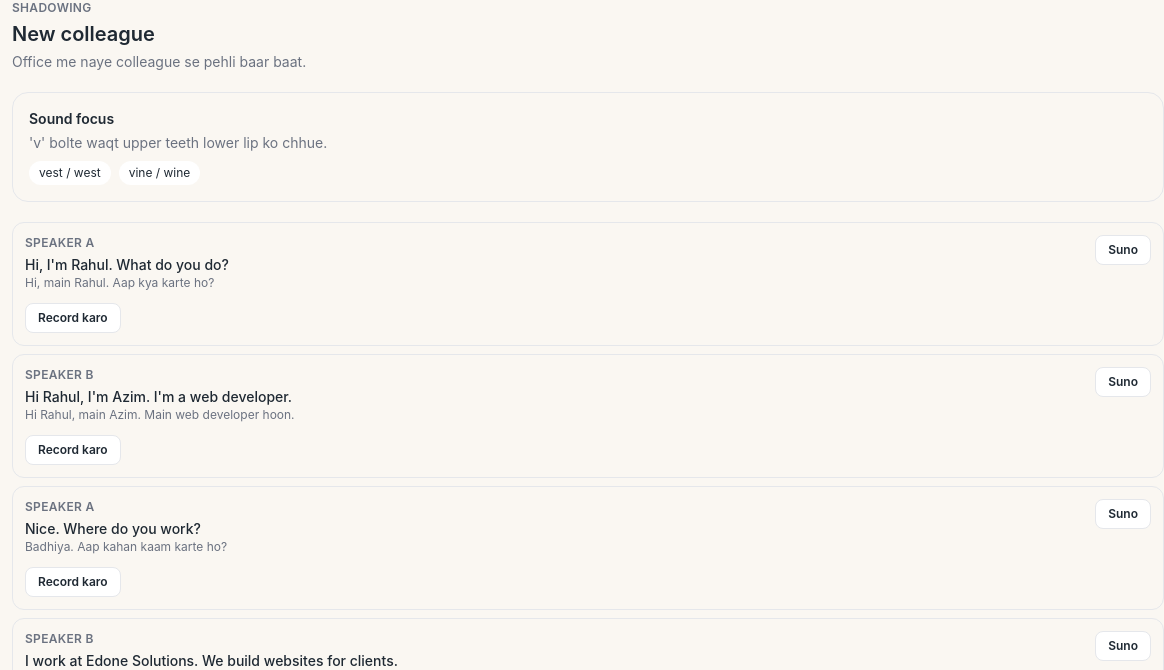
Scenario: records, stops, and shows playback
The width and height of the screenshot is (1164, 670).
Click the button "Record karo" below "Hi, main Rahul. Aap kya karte ho?": (73, 318) [25, 303, 121, 333]
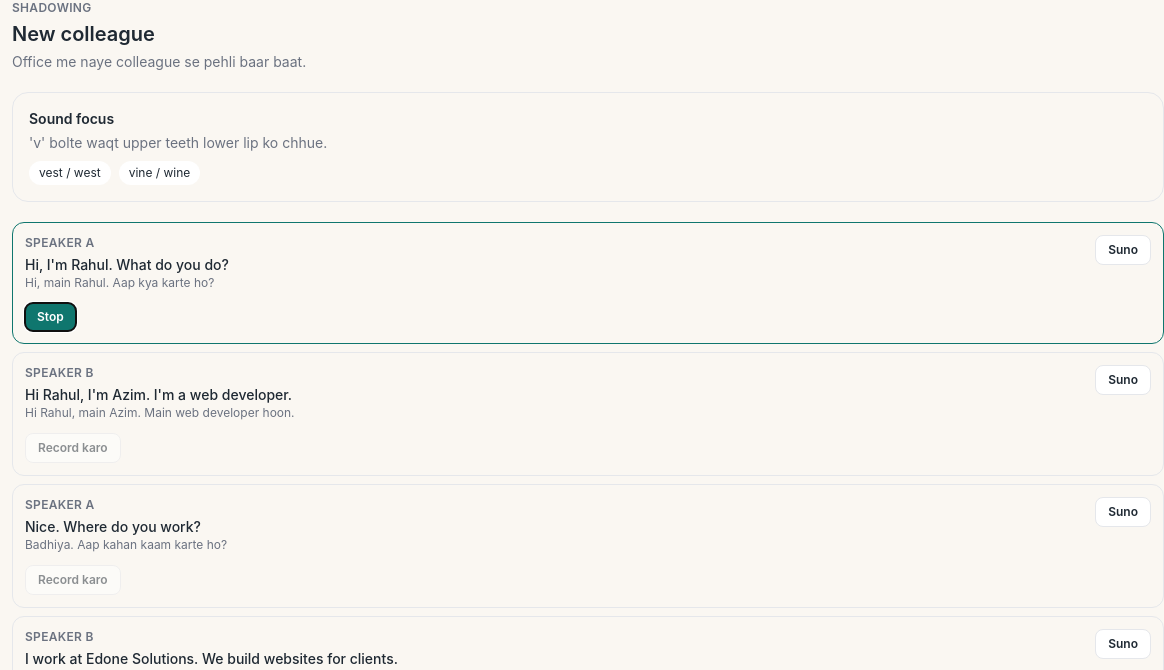
Click the button "Stop": (50, 317) [25, 303, 76, 331]
(page scrolled)
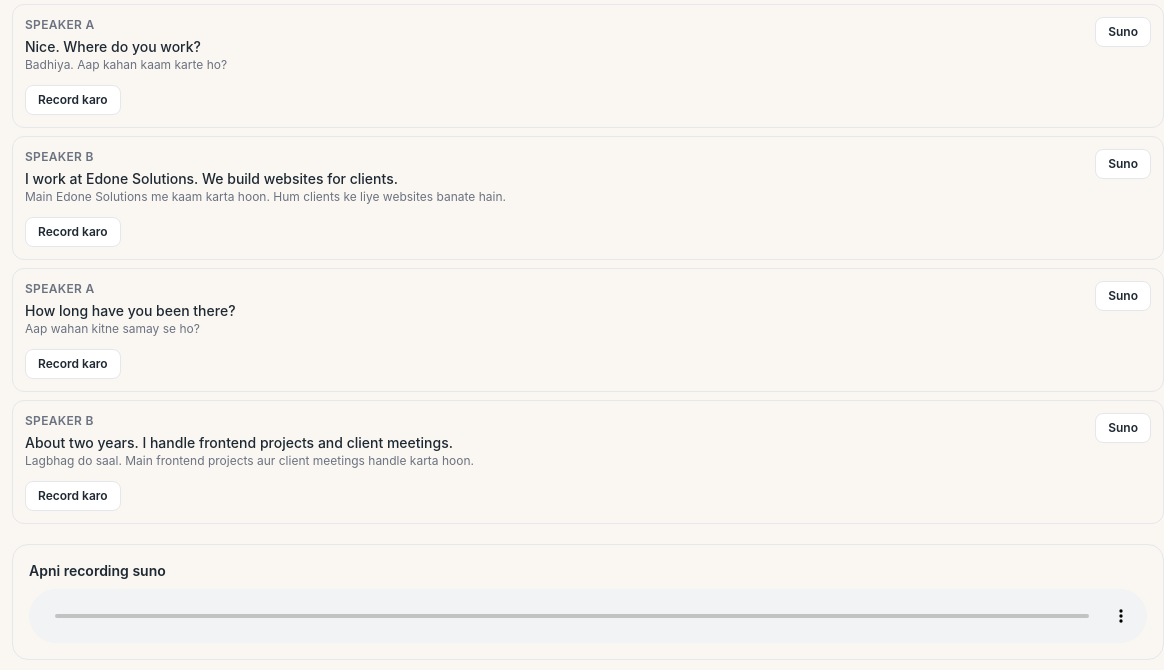
Expected: the text "Apni recording suno" is shown, [29, 562, 166, 579]
